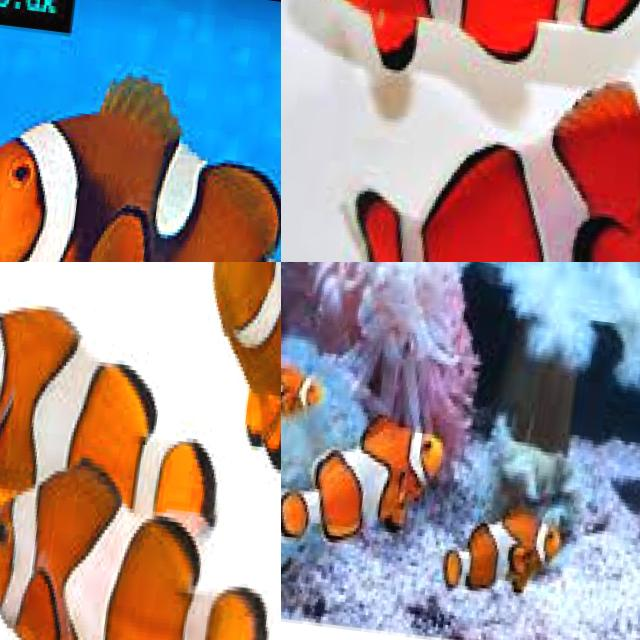Amphiprion-percula: (0, 262, 242, 580), (308, 57, 640, 262), (0, 43, 281, 262), (0, 460, 281, 640), (281, 0, 640, 136), (165, 262, 281, 595), (432, 476, 607, 630), (281, 404, 454, 554), (325, 262, 525, 332), (418, 262, 580, 318), (281, 341, 363, 442)
